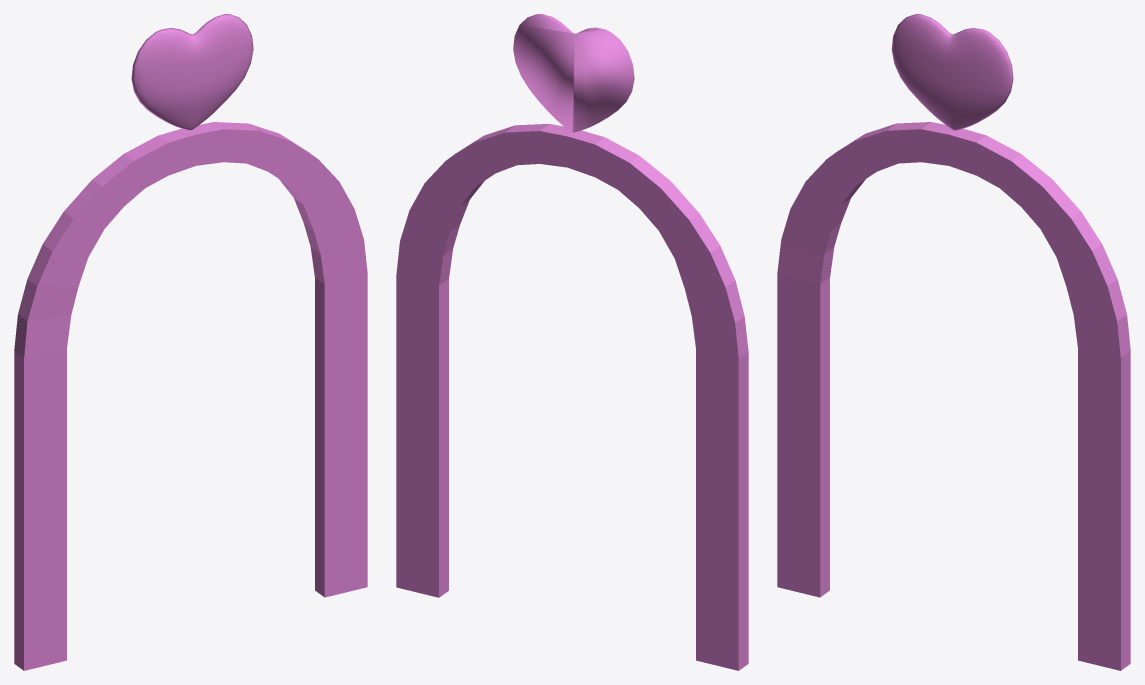
The model's file is Gate_1.fbx.
The picture shows the model from 3 angles, left to right: view 1: azimuth 30°, elevation 25°; view 2: azimuth 150°, elevation 25°; view 3: azimuth 330°, elevation 25°; orthographic projection.
Visible parts, largest first — view 1: Gate_1; view 2: Gate_1; view 3: Gate_1.
Boxes of the visible parts, x1=… form: Gate_1: x1=14, y1=14, x2=367, y2=670; Gate_1: x1=396, y1=14, x2=748, y2=670; Gate_1: x1=777, y1=14, x2=1130, y2=670.
Bounding box in the file's own units: 400 × 673 × 24.73.
